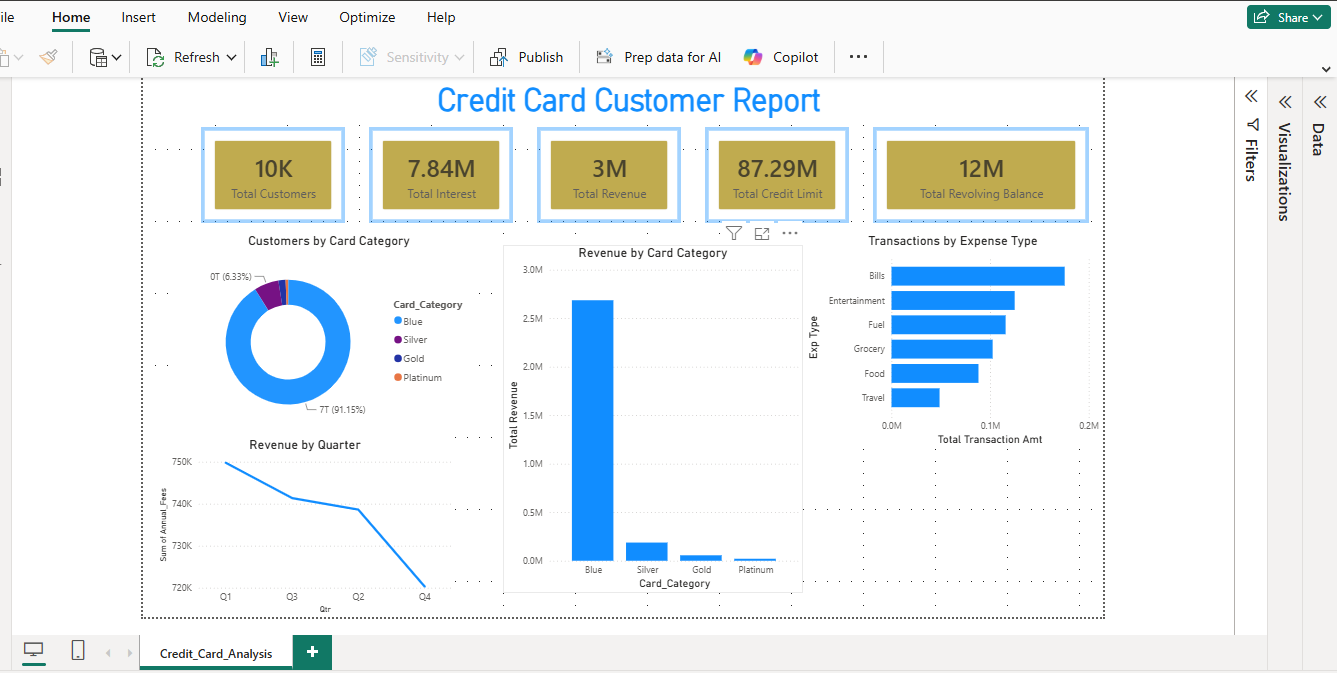

Layout of this report page (visuals, bound fields, positions):
{"tool":"powerbi","page":{"name":"Credit_Card_Analysis","canvas":[1280,720],"ordinal":0},"visuals":[{"type":"cardVisual","fields":{"Data":["credit_card.Total Customers"]},"box":[77,66.3,192,128],"z":0},{"type":"textbox","box":[16,0,1264,64],"z":1000},{"type":"cardVisual","fields":{"Data":["credit_card.Total Interest"]},"box":[301,66.3,192,128],"z":2000},{"type":"cardVisual","fields":{"Data":["credit_card.Total Revenue"]},"box":[525,66.3,192,128],"z":3000},{"type":"cardVisual","fields":{"Data":["credit_card.Total Credit Limit"]},"box":[749,66.3,192,128],"z":4000},{"type":"cardVisual","fields":{"Data":["credit_card.Total Revolving Balance"]},"box":[973,66.3,288,128],"z":5000},{"type":"donutChart","title":"Customers by Card Category","fields":{"Category":["credit_card.Card_Category"],"Y":["Sum(credit_card.Client_Num)"]},"box":[48,208,400,272],"z":6000},{"type":"lineChart","title":"Revenue by Quarter","fields":{"Category":["credit_card.Qtr"],"Y":["Sum(credit_card.Annual_Fees)"]},"box":[16,480,400,240],"z":6001},{"type":"clusteredBarChart","title":"Transactions by Expense Type","fields":{"Category":["credit_card.Exp Type"],"Y":["credit_card.Total Transaction Amt"]},"box":[880,208,400,288],"z":6002},{"type":"clusteredColumnChart","title":"Revenue by Card Category","fields":{"Category":["credit_card.Card_Category"],"Y":["credit_card.Total Revenue"]},"box":[480,224,400,464],"z":6003}]}

Visuals, with their boxes on the page's 1280x720 design canvas (x1, y1, x2, y2). These are canvas units, not pixel positions in the 1337x673 screenshot, which may show the page scaled, cropped or inside an application window:
cardVisual - credit_card.Total Customers: (x1=77, y1=66, x2=269, y2=194)
textbox: (x1=16, y1=0, x2=1280, y2=64)
cardVisual - credit_card.Total Interest: (x1=301, y1=66, x2=493, y2=194)
cardVisual - credit_card.Total Revenue: (x1=525, y1=66, x2=717, y2=194)
cardVisual - credit_card.Total Credit Limit: (x1=749, y1=66, x2=941, y2=194)
cardVisual - credit_card.Total Revolving Balance: (x1=973, y1=66, x2=1261, y2=194)
"Customers by Card Category" donutChart: (x1=48, y1=208, x2=448, y2=480)
"Revenue by Quarter" lineChart: (x1=16, y1=480, x2=416, y2=720)
"Transactions by Expense Type" clusteredBarChart: (x1=880, y1=208, x2=1280, y2=496)
"Revenue by Card Category" clusteredColumnChart: (x1=480, y1=224, x2=880, y2=688)
